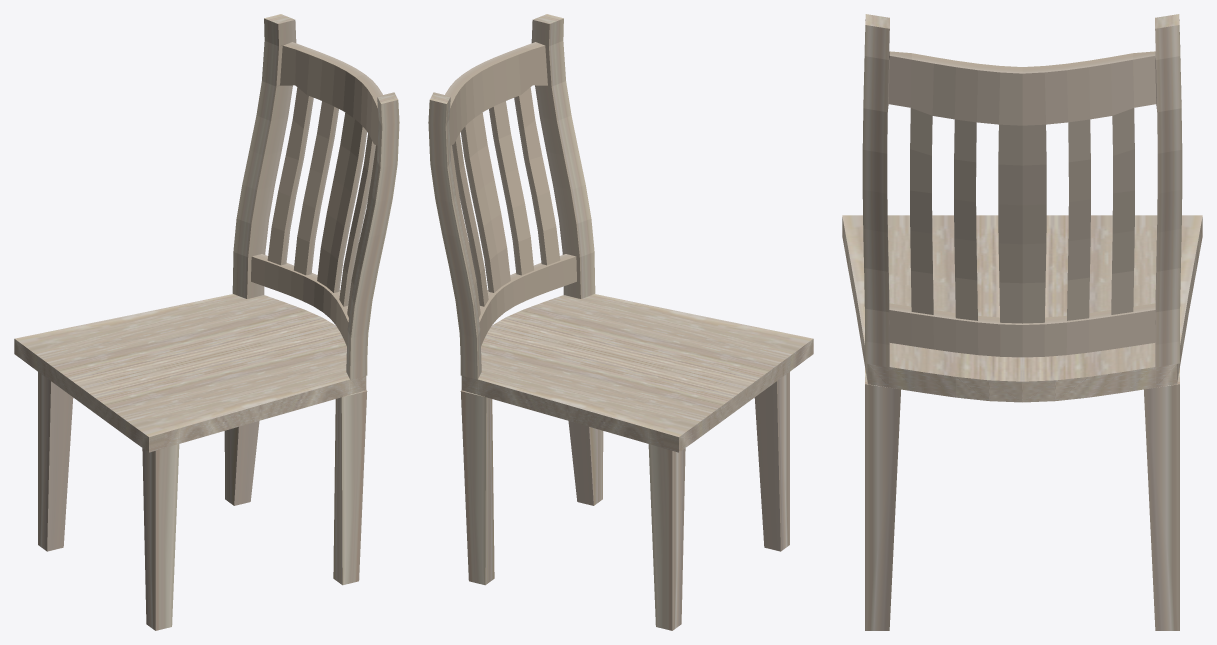
The model's file is chair.fbx.
The picture shows the model from 3 angles, left to right: view 1: azimuth 30°, elevation 25°; view 2: azimuth 150°, elevation 25°; view 3: azimuth 270°, elevation 25°; orthographic projection. The views are drawn at different scales.
Parts seen in each view (by area): view 1: Cube; view 2: Cube; view 3: Cube.
Part boxes in pixels (box(x1,y1,x2,y2)): Cube: box(14, 14, 399, 630); Cube: box(428, 14, 813, 630); Cube: box(842, 14, 1202, 630).
Bounding box in the file's own units: 61.36 × 97.43 × 50.4.
1 material, 1 textured.
